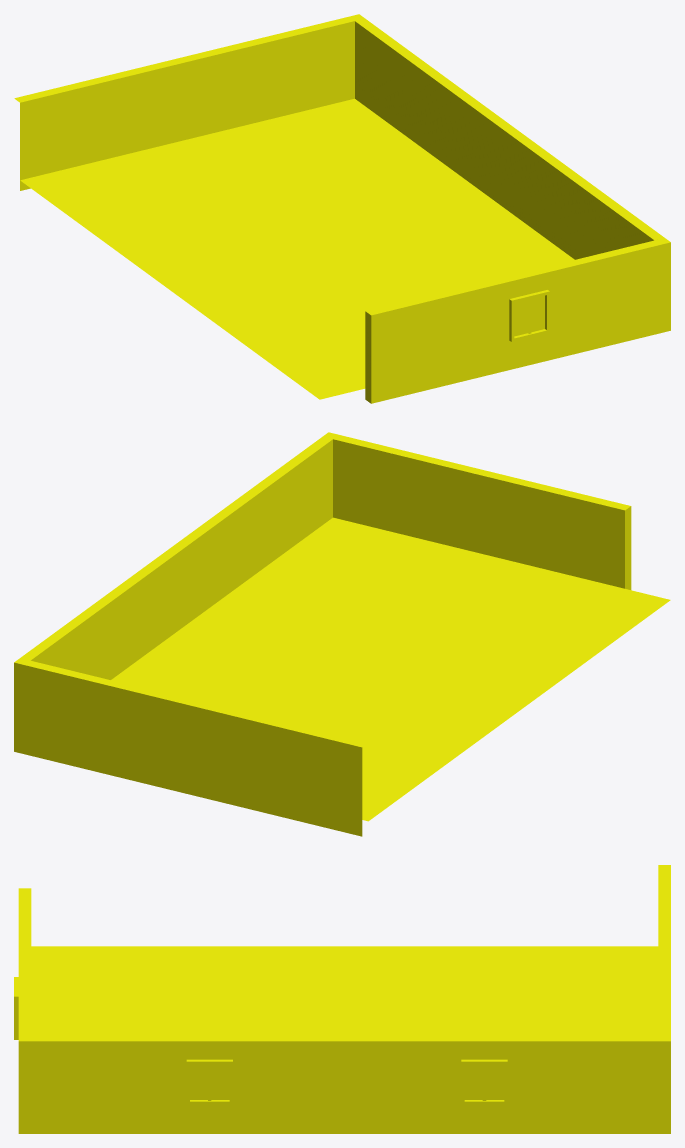
The model's file is Khu bep.gltf.
The picture shows the model from 3 angles, top to bottom: view 1: azimuth 30°, elevation 25°; view 2: azimuth 150°, elevation 25°; view 3: azimuth 270°, elevation 25°; orthographic projection. The views are drawn at different scales.
Parts seen in each view (by area): view 1: Khu bep; view 2: Khu bep; view 3: Khu bep.
Part boxes in pixels (<box>): Khu bep: <box>14,14,670,403</box>; Khu bep: <box>14,432,670,836</box>; Khu bep: <box>14,865,670,1133</box>.
Size of the model in its own units: 40.2 by 9.73 by 62.62.
1 material, 1 textured.
